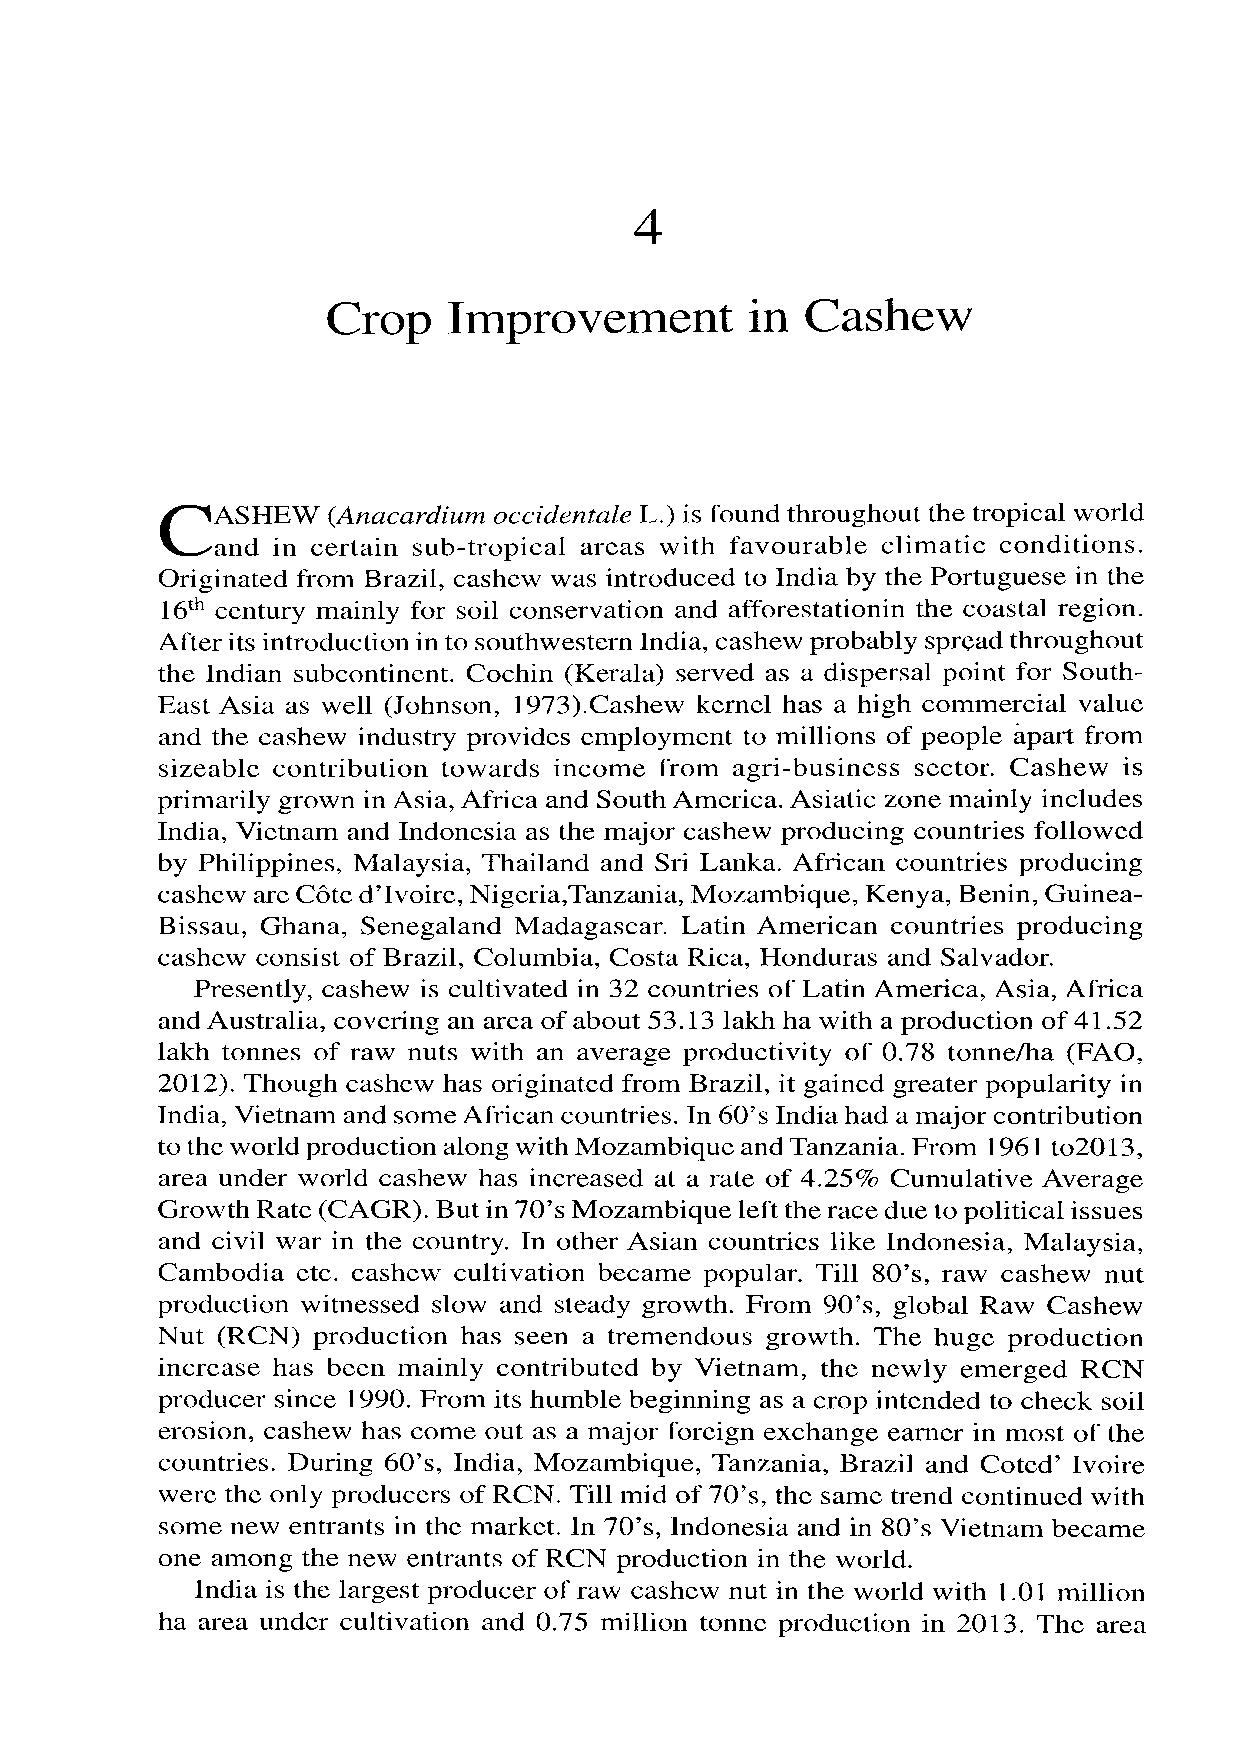chapter: (325, 207, 972, 344)
content: (153, 502, 1143, 1639)
